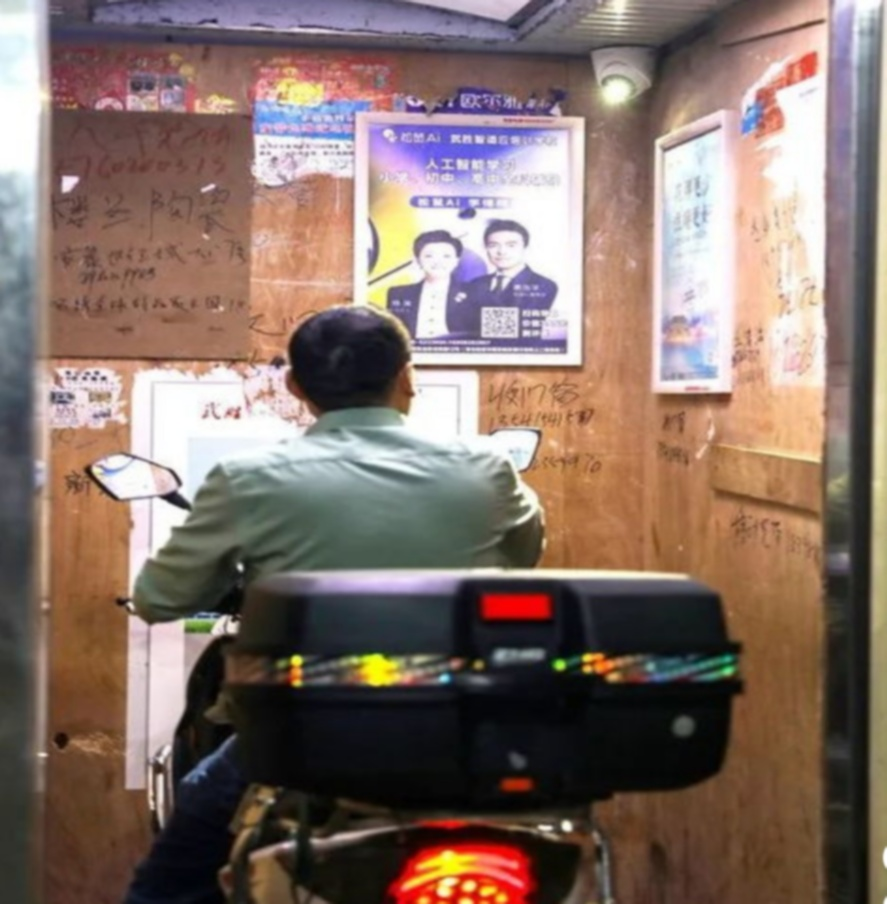ebike: (86, 426, 740, 893)
person: (148, 313, 545, 884)
